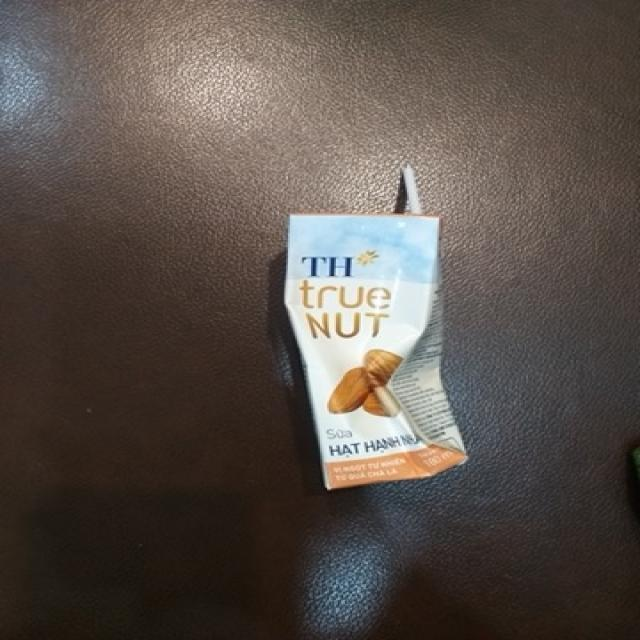PaperCardboard: (282, 160, 478, 488)
